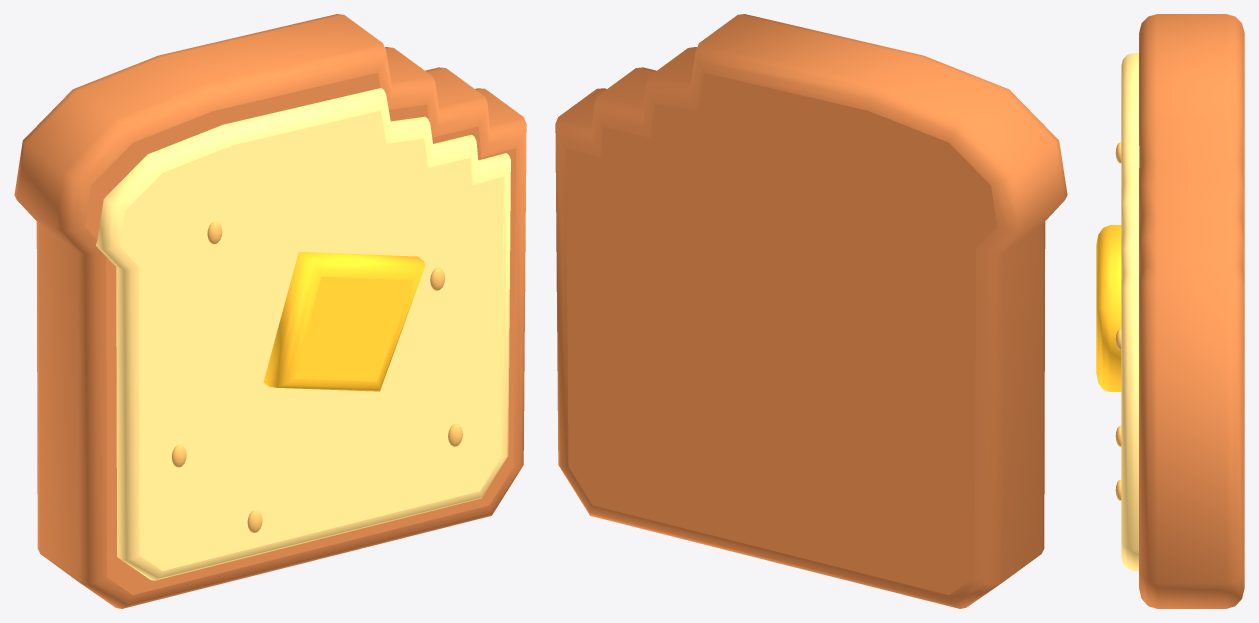
The model's file is butter_toast.glb.
3 views of the same model, side by side, from view 1: azimuth 30°, elevation 25°; view 2: azimuth 150°, elevation 25°; view 3: azimuth 270°, elevation 25° (orthographic). The views are drawn at different scales.
Visible parts, largest first — view 1: Butter Bite; view 2: Butter Bite; view 3: Butter Bite.
Boxes of the visible parts, x1,y1,x2,y2 form: Butter Bite: (14, 14, 526, 608); Butter Bite: (555, 14, 1067, 608); Butter Bite: (1096, 14, 1244, 608).
Bounding box in the file's own units: 1 × 1.02 × 0.3074.
